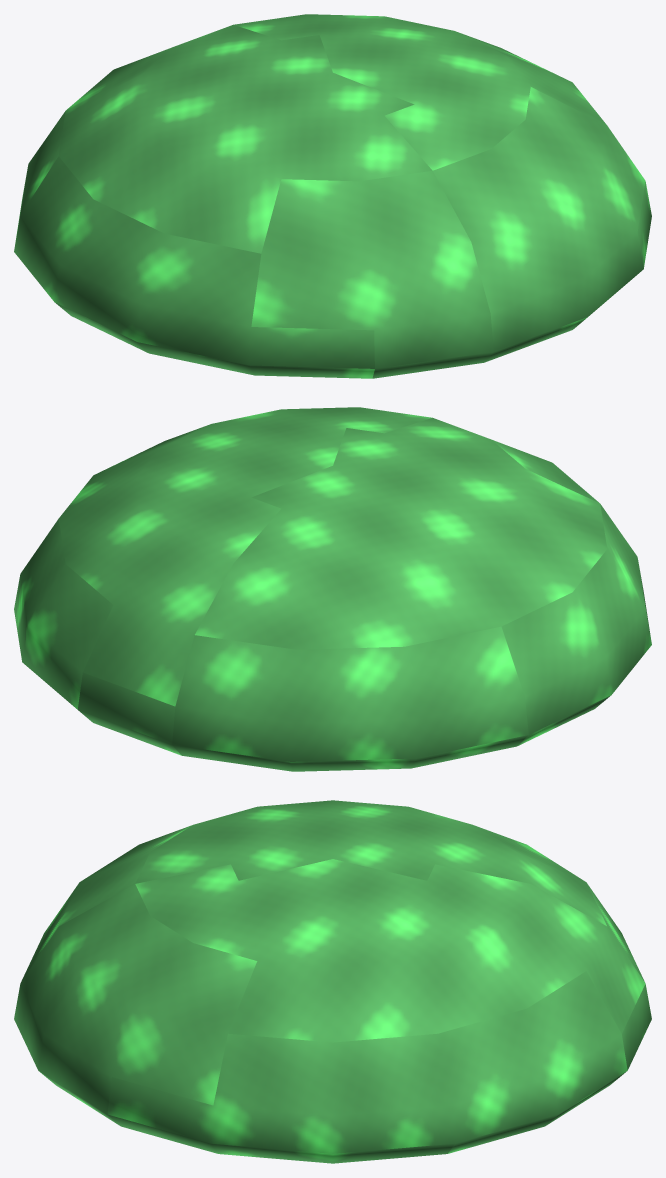
The model's file is underworld-resource-glowcap-flesh.glb.
3 views of the same model, one above another, from view 1: azimuth 30°, elevation 25°; view 2: azimuth 150°, elevation 25°; view 3: azimuth 270°, elevation 25° (orthographic).
Parts seen in each view (by area): view 1: flesh; view 2: flesh; view 3: flesh.
Boxes of the visible parts, left/top/right/bottom form: flesh: left=14, top=14, right=651, bottom=378; flesh: left=14, top=407, right=651, bottom=771; flesh: left=14, top=800, right=651, bottom=1163.
Bounding box in the file's own units: 0.52 × 0.18 × 0.52.
Materials: 2 (2 with a texture image).
